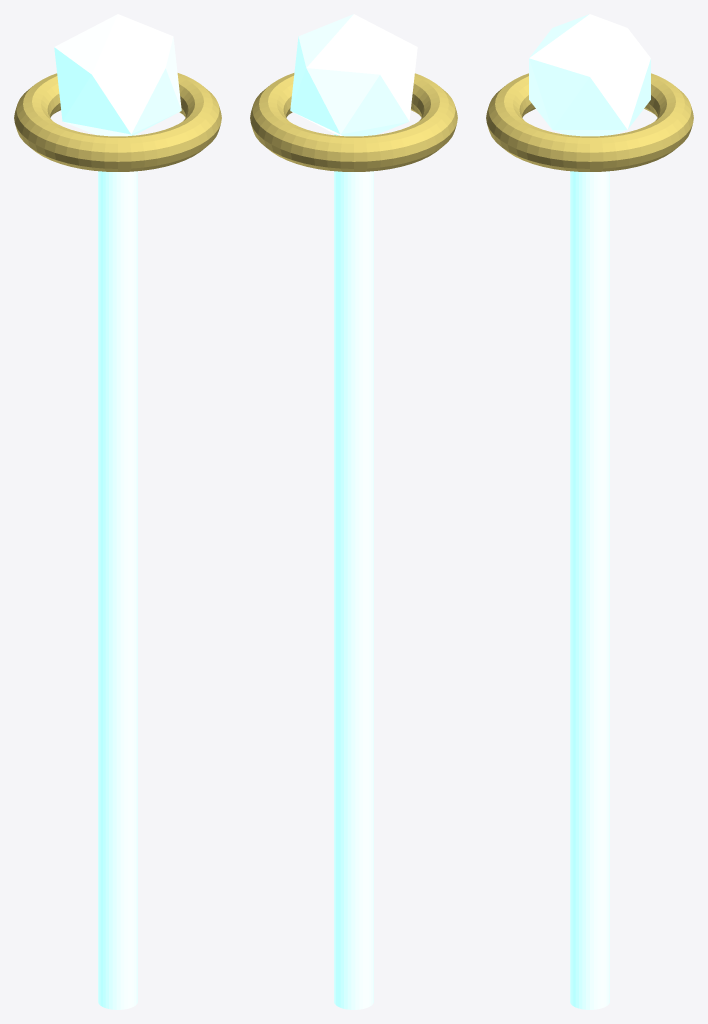
Rendered from weapon_crystal_staff.glb.
3 views of the same model, side by side, from view 1: azimuth 30°, elevation 25°; view 2: azimuth 150°, elevation 25°; view 3: azimuth 270°, elevation 25° (orthographic).
Visible parts, largest first — view 1: Cylinder, Icosphere, Torus; view 2: Cylinder, Icosphere, Torus; view 3: Cylinder, Icosphere, Torus.
Boxes of the visible parts, left/top/right/bottom form: Cylinder: left=98, top=133, right=137, bottom=1009; Icosphere: left=54, top=14, right=181, bottom=136; Torus: left=14, top=73, right=221, bottom=171; Cylinder: left=334, top=133, right=373, bottom=1009; Icosphere: left=290, top=14, right=417, bottom=136; Torus: left=250, top=73, right=457, bottom=171; Cylinder: left=570, top=171, right=609, bottom=1009; Icosphere: left=529, top=14, right=650, bottom=136; Torus: left=486, top=73, right=693, bottom=171.
Size of the model in its own units: 0.29 by 1.52 by 0.29.
